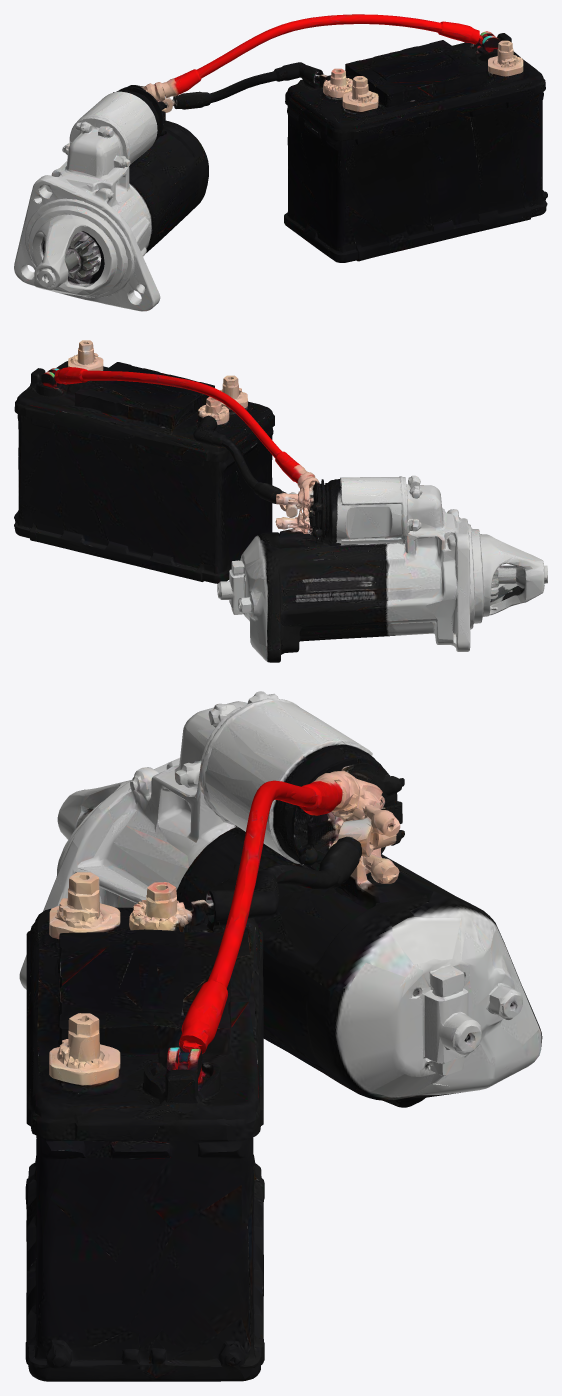
The model's file is starter-web.glb.
The picture shows the model from 3 angles, top to bottom: view 1: azimuth 30°, elevation 25°; view 2: azimuth 150°, elevation 25°; view 3: azimuth 270°, elevation 25°; orthographic projection. The views are drawn at different scales.
Parts seen in each view (by area): view 1: Mesh_0; view 2: Mesh_0; view 3: Mesh_0.
Part boxes in pixels (x1,y1,x2,y2): Mesh_0: (14,14,547,311); Mesh_0: (14,340,547,662); Mesh_0: (19,691,542,1381).
Bounding box in the file's own units: 1.9 × 0.7351 × 0.8613.
Materials: 1 (1 with a texture image).
